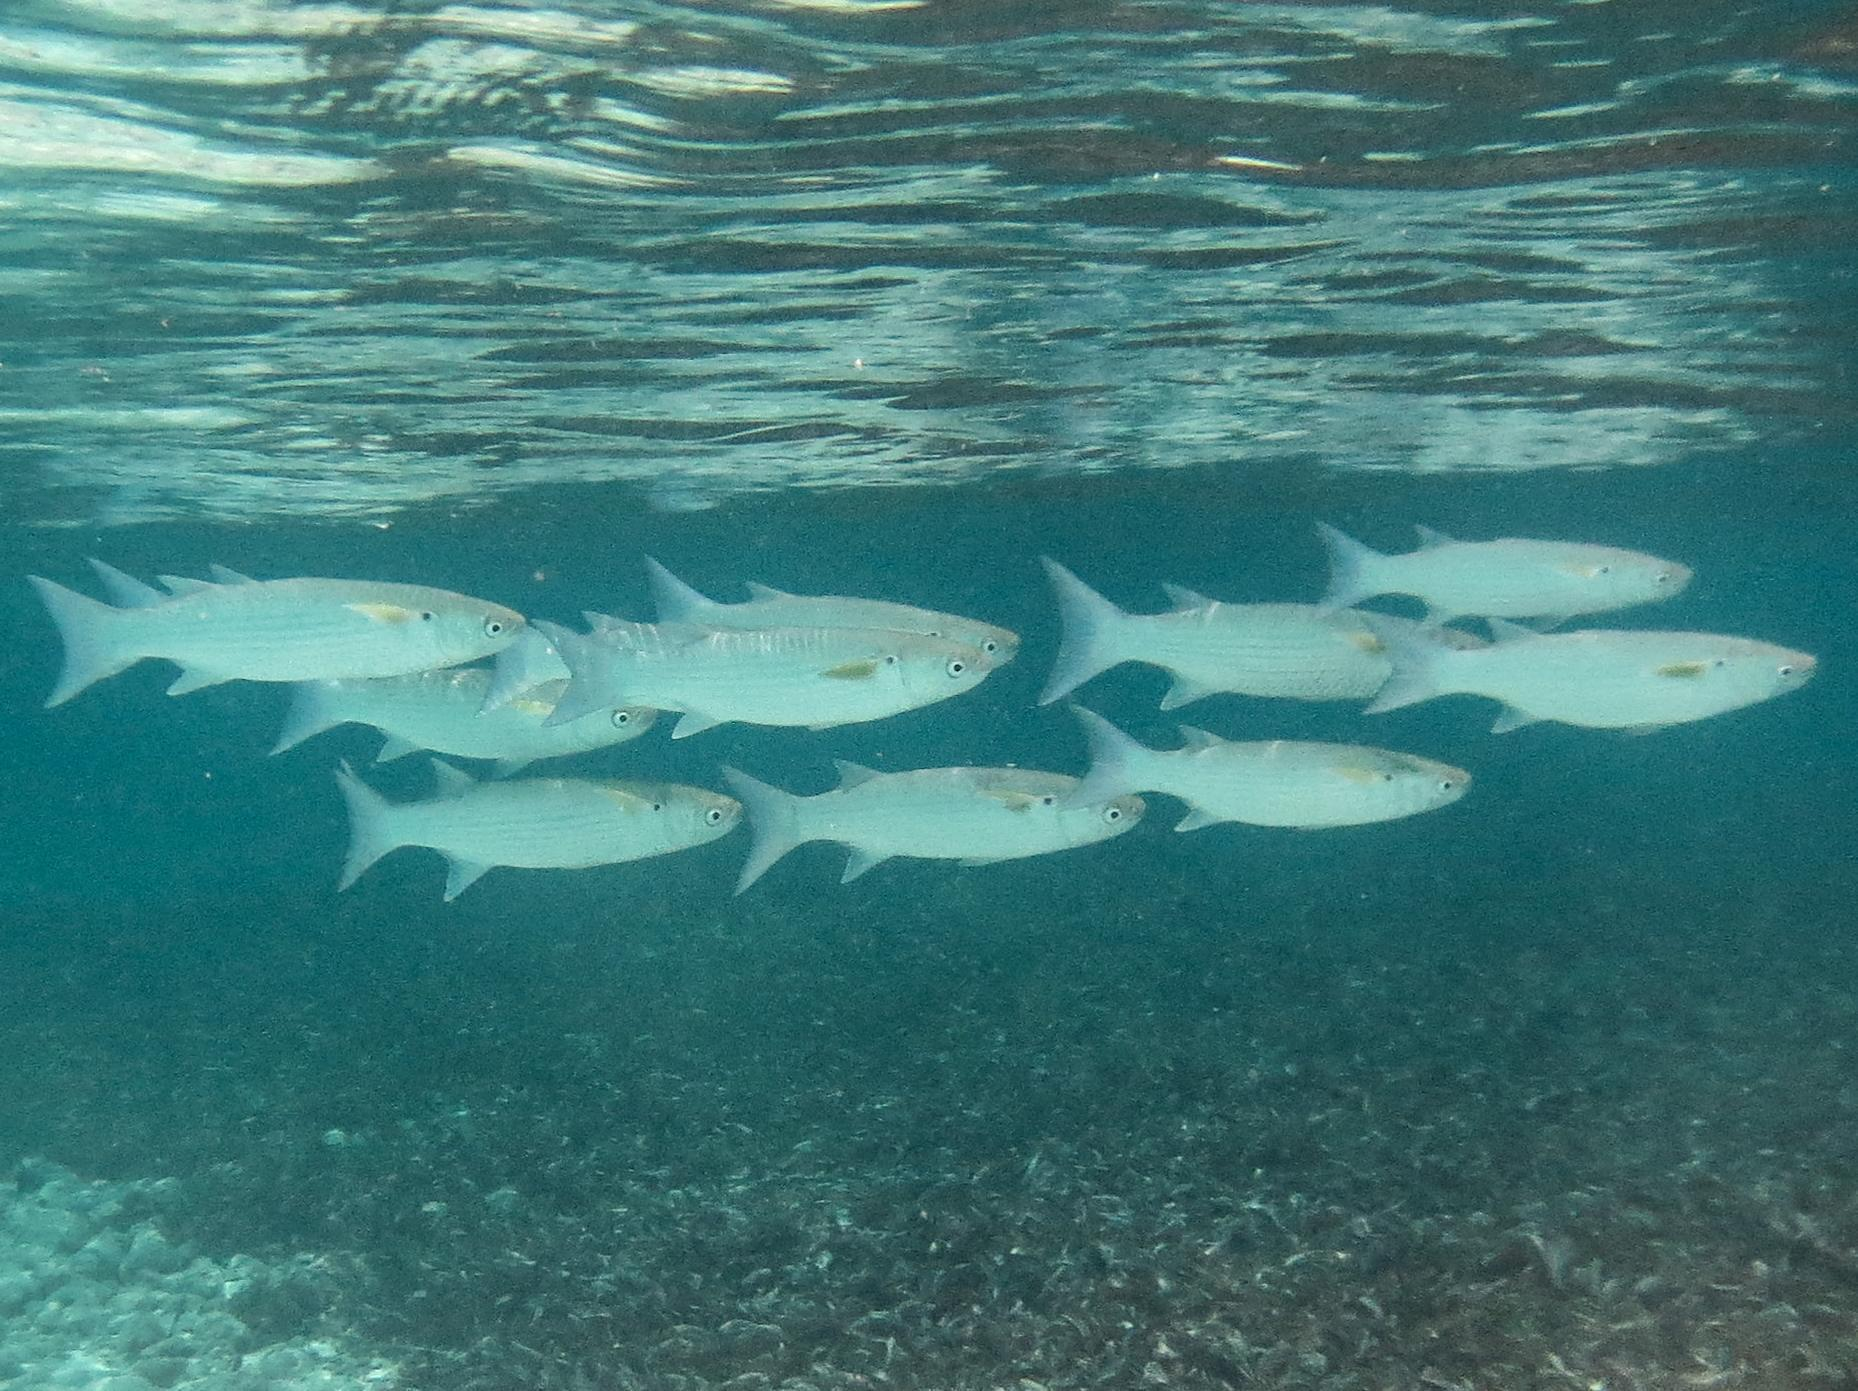Fish: (18, 538, 526, 710), (311, 747, 742, 916), (713, 764, 1171, 900), (1353, 614, 1835, 736), (529, 618, 1014, 738)
